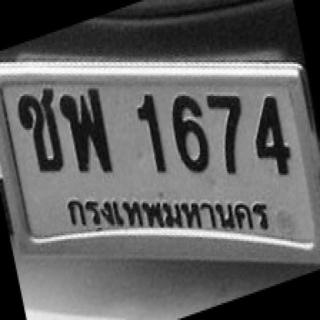A10: (12, 79, 71, 173)
A31: (57, 76, 122, 185)
N01: (132, 81, 169, 188)
N04: (249, 78, 300, 200)
N06: (165, 84, 214, 193)
N07: (205, 80, 249, 192)
P04: (54, 187, 281, 243)
